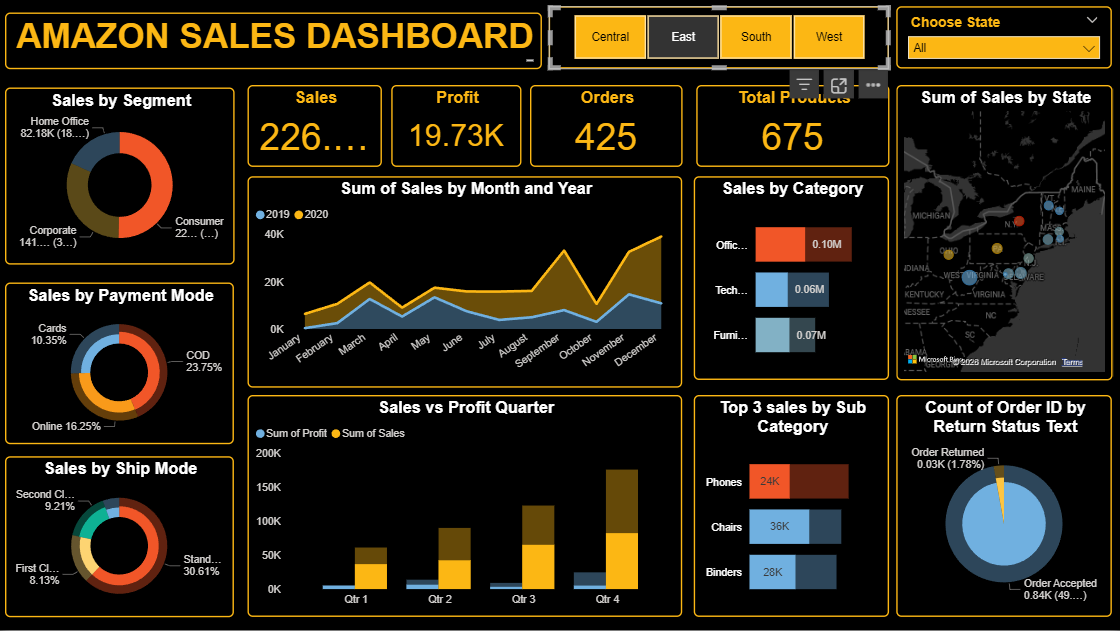

What the dashboard file says about the page in this screenshot:
{"tool":"powerbi","page":{"name":"Page 1","canvas":[1280,720],"ordinal":0},"visuals":[{"type":"clusteredBarChart","title":" Sales by Category","fields":{"Category":["Amazon Store Sales Data xlsx - Sheet1 (1).Category"],"Y":["Sum(Amazon Store Sales Data xlsx - Sheet1 (1).Sales)"]},"box":[792.6,201.2,223.3,233.1],"z":0},{"type":"donutChart","title":"Sales by Segment","fields":{"Category":["Amazon Store Sales Data xlsx - Sheet1 (1).Segment"],"Y":["Sum(Amazon Store Sales Data xlsx - Sheet1 (1).Sales)"]},"box":[6.2,100,262.5,202.5],"z":1000},{"type":"barChart","title":"Top 3 sales by Sub Category","fields":{"Category":["Amazon Store Sales Data xlsx - Sheet1 (1).Sub-Category"],"Y":["Sum(Amazon Store Sales Data xlsx - Sheet1 (1).Sales)"],"Series":["Amazon Store Sales Data xlsx - Sheet1 (1).Sub-Category"]},"box":[792.6,451.5,223.3,254],"z":2000},{"type":"textbox","title":"AMAZON SALES DASHBOARD","box":[6.2,13.8,613.8,65],"z":3000},{"type":"donutChart","title":"Sales by Payment Mode","fields":{"Category":["Amazon Store Sales Data xlsx - Sheet1 (1).Payment Mode"],"Y":["Sum(Amazon Store Sales Data xlsx - Sheet1 (1).Sales)"]},"box":[6.2,322.5,261.2,185],"z":4000},{"type":"donutChart","title":" Sales by Ship Mode","fields":{"Category":["Amazon Store Sales Data xlsx - Sheet1 (1).Ship Mode"],"Y":["Sum(Amazon Store Sales Data xlsx - Sheet1 (1).Sales)"]},"box":[5.7,521.4,261.4,184.3],"z":5000},{"type":"card","title":"Sales","fields":{"Values":["Sum(Amazon Store Sales Data xlsx - Sheet1 (1).Sales)"]},"box":[283.4,96.9,153.4,93.3],"z":6000},{"type":"card","title":"Profit","fields":{"Values":["Sum(Amazon Store Sales Data xlsx - Sheet1 (1).Profit)"]},"box":[447.9,96.9,148.5,93.3],"z":7000},{"type":"card","title":"Orders","fields":{"Values":["Amazon Store Sales Data xlsx - Sheet1 (1).Orders"]},"box":[606.1,96.9,174.2,93.3],"z":8000},{"type":"card","title":"Total Products","fields":{"Values":["Amazon Store Sales Data xlsx - Sheet1 (1).Total Products"]},"box":[795.1,96.9,220.9,93.3],"z":9000},{"type":"map","title":"Sum of Sales by State","fields":{"Category":["Amazon Store Sales Data xlsx - Sheet1 (1).State"],"Size":["Avg(Amazon Store Sales Data xlsx - Sheet1 (1).Sales)"]},"box":[1023.8,97.5,247.5,337.5],"z":10000},{"type":"stackedAreaChart","fields":{"Category":["Amazon Store Sales Data xlsx - Sheet1 (1).Order Date.Variation.Date Hierarchy.Month"],"Y":["Sum(Amazon Store Sales Data xlsx - Sheet1 (1).Sales)"],"Series":["Amazon Store Sales Data xlsx - Sheet1 (1).Order Date.Variation.Date Hierarchy.Year"]},"box":[283.4,201.2,496.9,241.7],"z":11000},{"type":"clusteredColumnChart","title":"Sales vs Profit Quarter","fields":{"Category":["Amazon Store Sales Data xlsx - Sheet1 (1).Order Date.Variation.Date Hierarchy.Quarter"],"Y":["Sum(Amazon Store Sales Data xlsx - Sheet1 (1).Profit)","Sum(Amazon Store Sales Data xlsx - Sheet1 (1).Sales)"]},"box":[283.4,451.5,496.9,254],"z":12000},{"type":"pieChart","fields":{"Y":["CountNonNull(Amazon Store Sales Data xlsx - Sheet1 (1).Order ID)"],"Category":["Amazon Store Sales Data xlsx - Sheet1 (1).Return Status Text"]},"box":[1024,452,246.7,253.3],"z":13000},{"type":"slicer","fields":{"Values":["Amazon Store Sales Data xlsx - Sheet1 (1).Region"]},"box":[627.5,7.5,388.8,71.2],"z":14000},{"type":"slicer","fields":{"Values":["Amazon Store Sales Data xlsx - Sheet1 (1).State"]},"box":[1023.8,7.5,246.2,71.2],"z":14001}]}

Visuals, with their boxes in screenshot pixels (x1, y1, x2, y2), scaled from the page's 1280x720 canvas onto the 1120x631 screenshot:
" Sales by Category" clusteredBarChart: (x1=694, y1=176, x2=889, y2=381)
"Sales by Segment" donutChart: (x1=5, y1=88, x2=235, y2=265)
"Top 3 sales by Sub Category" barChart: (x1=694, y1=396, x2=889, y2=618)
"AMAZON SALES DASHBOARD" textbox: (x1=5, y1=12, x2=542, y2=69)
"Sales by Payment Mode" donutChart: (x1=5, y1=283, x2=234, y2=445)
" Sales by Ship Mode" donutChart: (x1=5, y1=457, x2=234, y2=618)
"Sales" card: (x1=248, y1=85, x2=382, y2=167)
"Profit" card: (x1=392, y1=85, x2=522, y2=167)
"Orders" card: (x1=530, y1=85, x2=683, y2=167)
"Total Products" card: (x1=696, y1=85, x2=889, y2=167)
"Sum of Sales by State" map: (x1=896, y1=85, x2=1112, y2=381)
stackedAreaChart - Amazon Store Sales Data xlsx - Sheet1 (1).Order Date.Variation.Date Hierarchy.Month x Sum(Amazon Store Sales Data xlsx - Sheet1 (1).Sales): (x1=248, y1=176, x2=683, y2=388)
"Sales vs Profit Quarter" clusteredColumnChart: (x1=248, y1=396, x2=683, y2=618)
pieChart - CountNonNull(Amazon Store Sales Data xlsx - Sheet1 (1).Order ID) x Amazon Store Sales Data xlsx - Sheet1 (1).Return Status Text: (x1=896, y1=396, x2=1112, y2=618)
slicer - Amazon Store Sales Data xlsx - Sheet1 (1).Region: (x1=549, y1=7, x2=889, y2=69)
slicer - Amazon Store Sales Data xlsx - Sheet1 (1).State: (x1=896, y1=7, x2=1111, y2=69)
